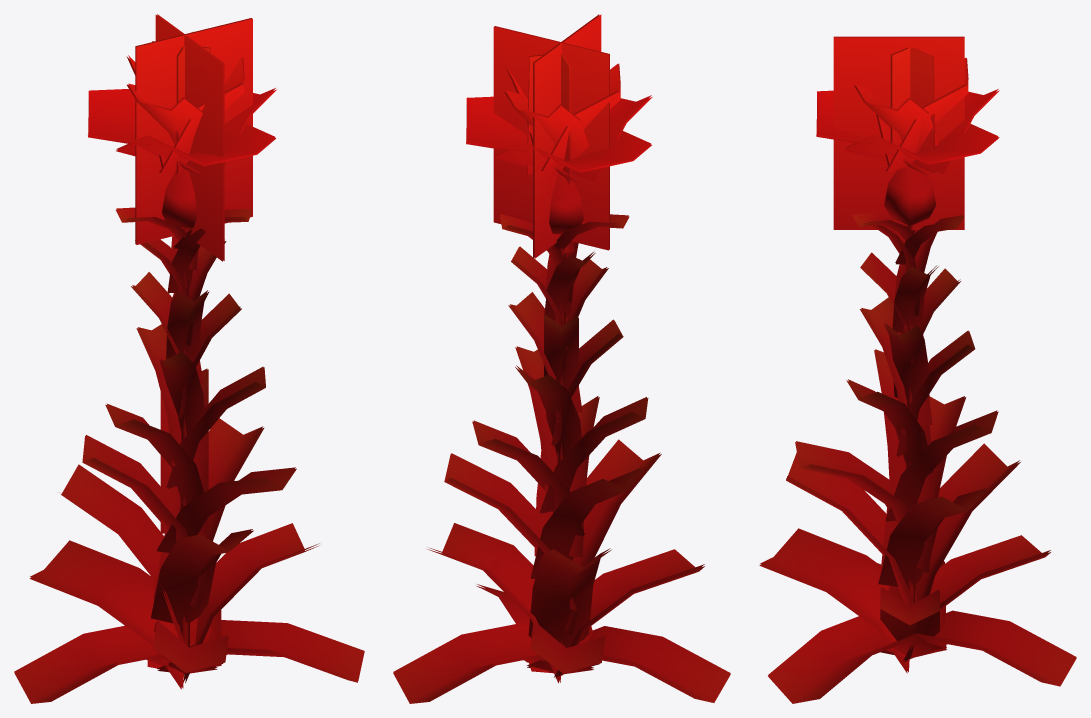
Rendered from Flower01_AFS_high.FBX.
3 renders of one model, left to right at view 1: azimuth 30°, elevation 25°; view 2: azimuth 150°, elevation 25°; view 3: azimuth 270°, elevation 25°, orthographic. The views are drawn at different scales.
Visible parts, largest first — view 1: Flower01_AFS_high; view 2: Flower01_AFS_high; view 3: Flower01_AFS_high.
Part boxes in pixels (<box>): Flower01_AFS_high: <box>14,14,364,703</box>; Flower01_AFS_high: <box>393,14,730,703</box>; Flower01_AFS_high: <box>759,36,1076,703</box>.
Size of the model in its own units: 0.2661 by 0.5645 by 0.2615.
